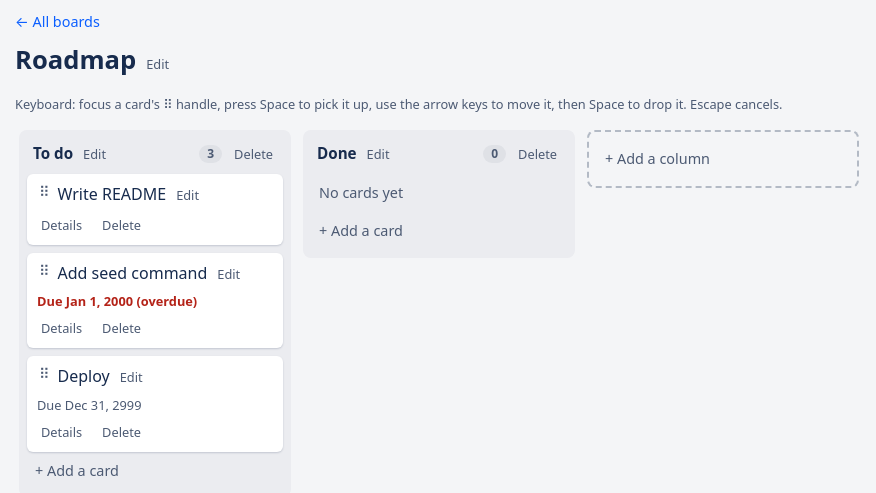
Test: BoardPage cards › deletes a card after confirmation
Click the button with aria-label "Delete Write README". click: (122, 225)
box: [98,214,145,237]
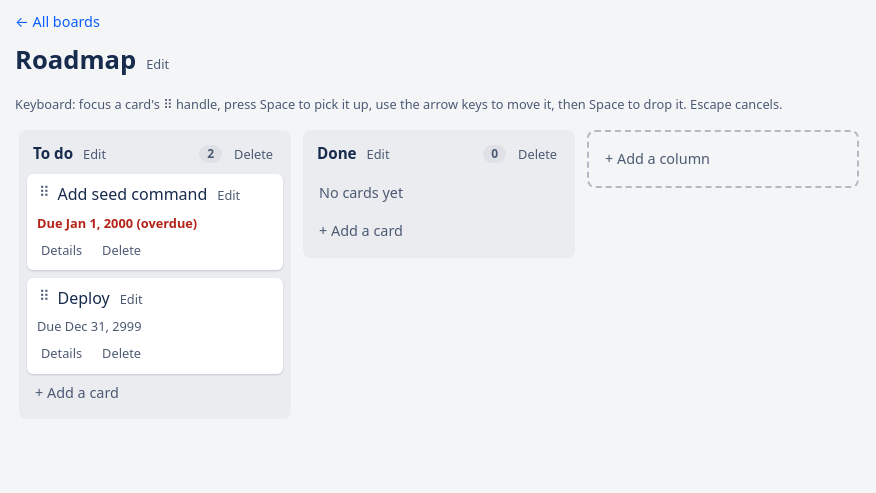
Now the text "Write README" is gone
